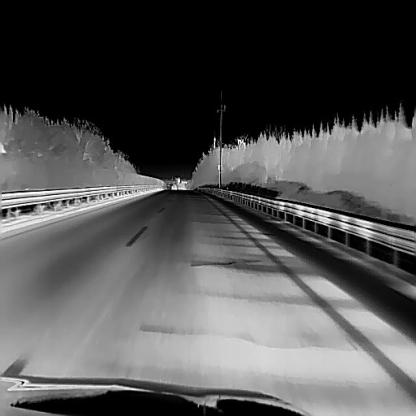car: (170, 182, 176, 189)
